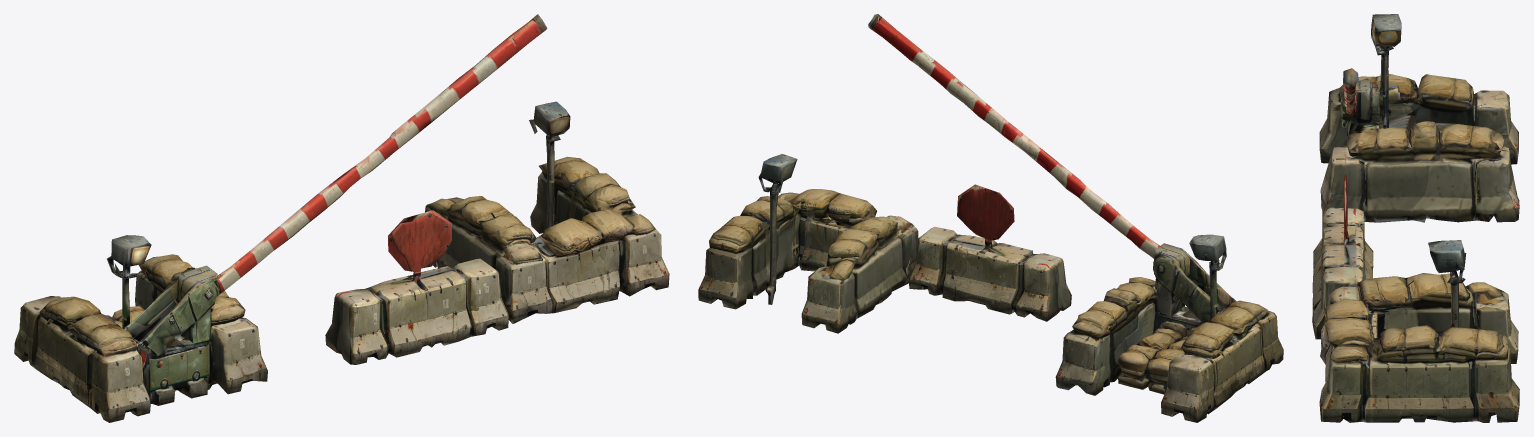
Rendered from EX_Mil_Gate.fbx.
The picture shows the model from 3 angles, left to right: view 1: azimuth 30°, elevation 25°; view 2: azimuth 150°, elevation 25°; view 3: azimuth 270°, elevation 25°; orthographic projection. The views are drawn at different scales.
Parts seen in each view (by area): view 1: texture_mapping; view 2: texture_mapping; view 3: texture_mapping.
Boxes of the visible parts, left/top/right/bottom form: texture_mapping: left=14, top=14, right=669, bottom=422; texture_mapping: left=698, top=14, right=1283, bottom=422; texture_mapping: left=1312, top=14, right=1519, bottom=422.
Bounding box in the file's own units: 1 × 0.314 × 0.5131.
Materials: 1 (1 with a texture image).
